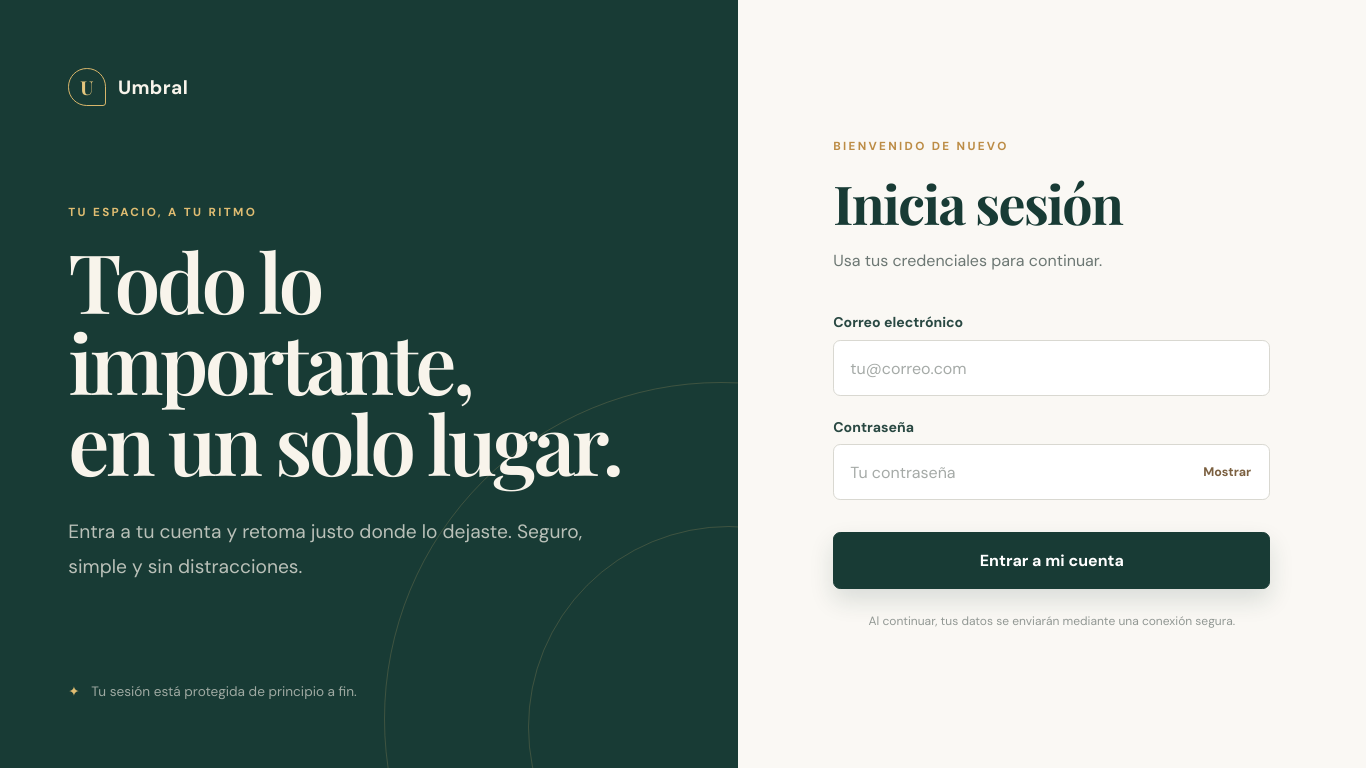
Test: App › presenta un mensaje claro cuando las credenciales no son válidas
The width and height of the screenshot is (1366, 768).
Expected: the heading "Inicia sesión" is shown, [833, 167, 1122, 238]
Step 1. Type "ana@example.com" into the field labelled "Correo electrónico" → (1052, 368), box [833, 340, 1270, 396]
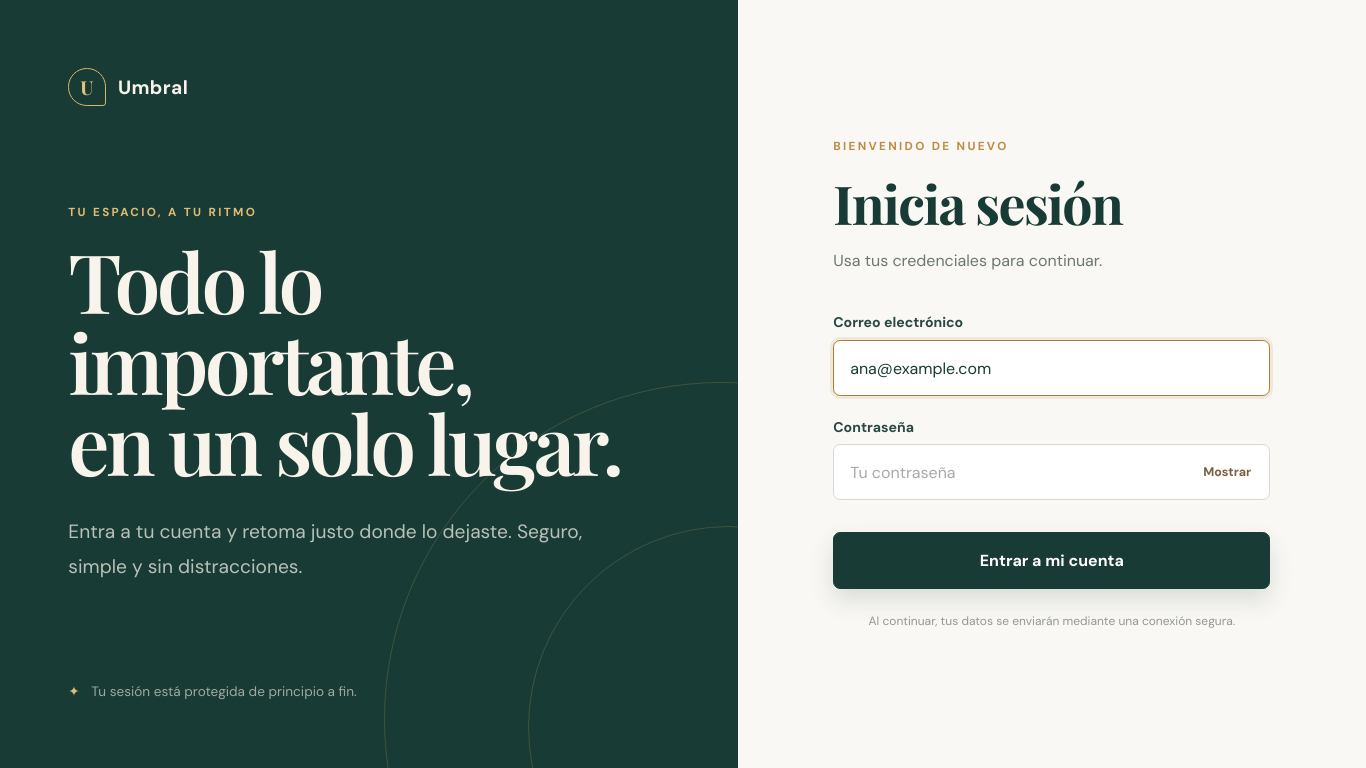
Step 2. Type "incorrecta" into the password field labelled "Contraseña" → (1052, 472), box [833, 444, 1270, 500]
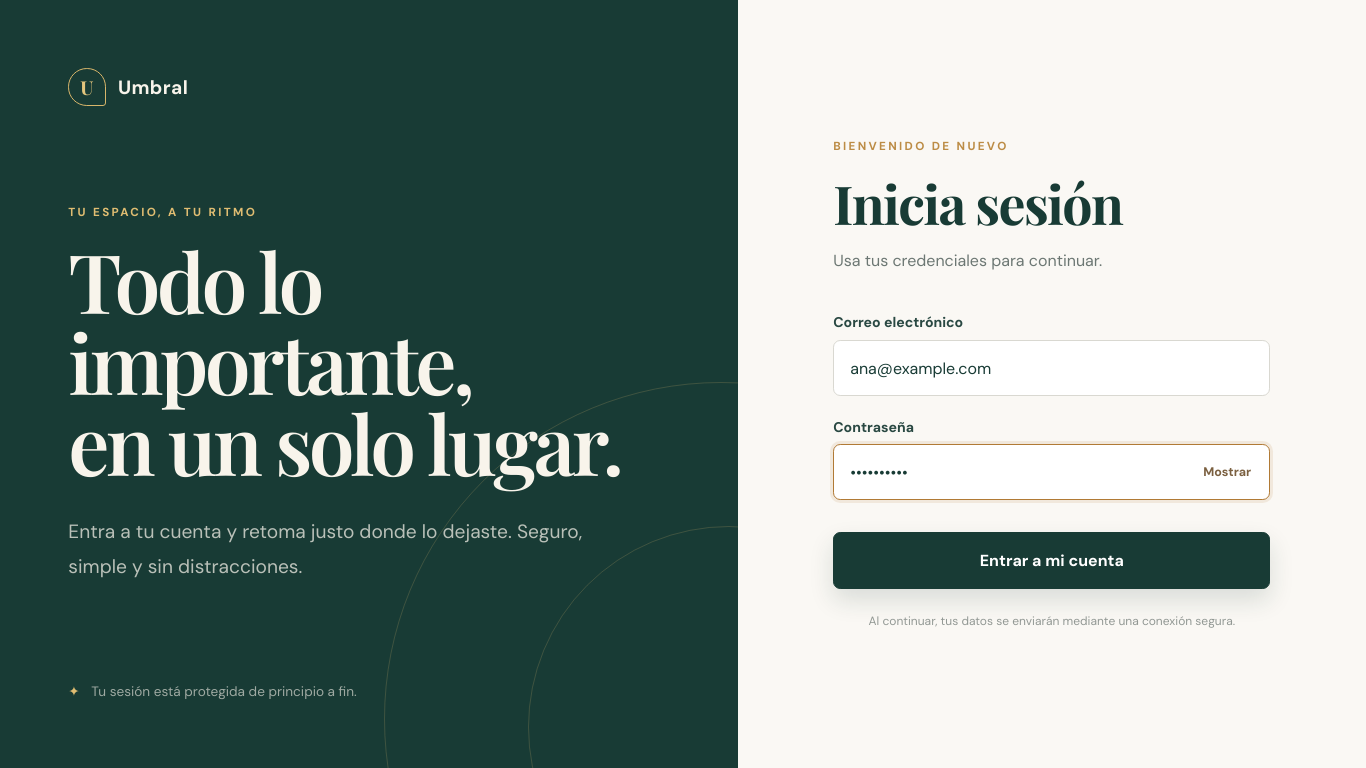
Step 3. Click the button "Entrar a mi cuenta" → (1052, 561), box [833, 532, 1270, 589]
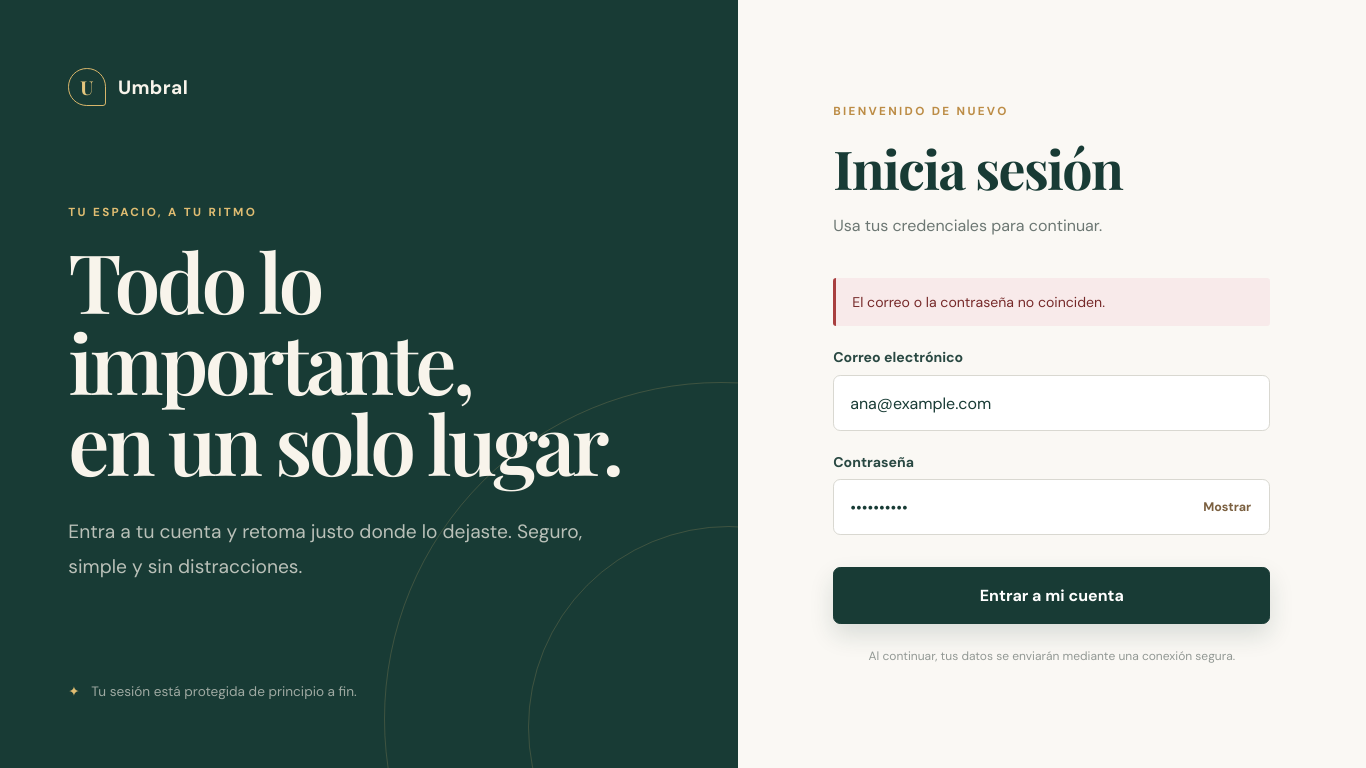
Now the message reads "El correo o la contraseña no coinciden.", box [852, 293, 1105, 311]
